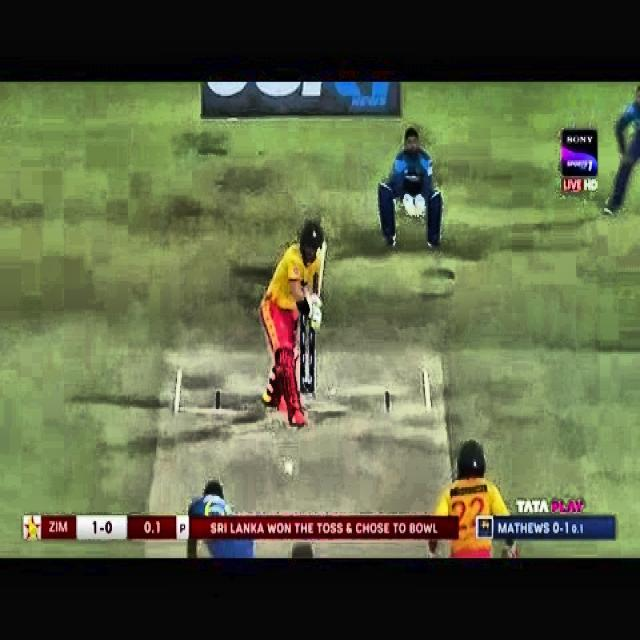Middle-stump: (301, 311, 305, 391)
Right-stump: (310, 331, 313, 391)
